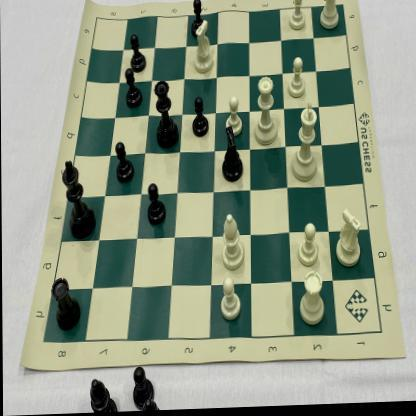black-king: (60, 156, 94, 243)
black-knight: (218, 127, 246, 186)
black-pawn: (143, 181, 169, 231), (189, 92, 212, 142), (123, 65, 145, 111), (113, 142, 135, 187), (127, 30, 148, 77), (188, 0, 207, 42)
black-queen: (151, 78, 180, 153)
black-rook: (49, 274, 82, 334)
white-bishop: (220, 211, 248, 274)
white-king: (289, 102, 321, 189)
white-knight: (334, 207, 365, 272), (190, 15, 218, 79)
white-pawn: (295, 222, 322, 272), (217, 277, 242, 325), (287, 55, 308, 104), (222, 96, 245, 139), (286, 0, 308, 33)
white-queen: (251, 72, 280, 152)
white-rook: (293, 271, 329, 333), (317, 0, 343, 35)
